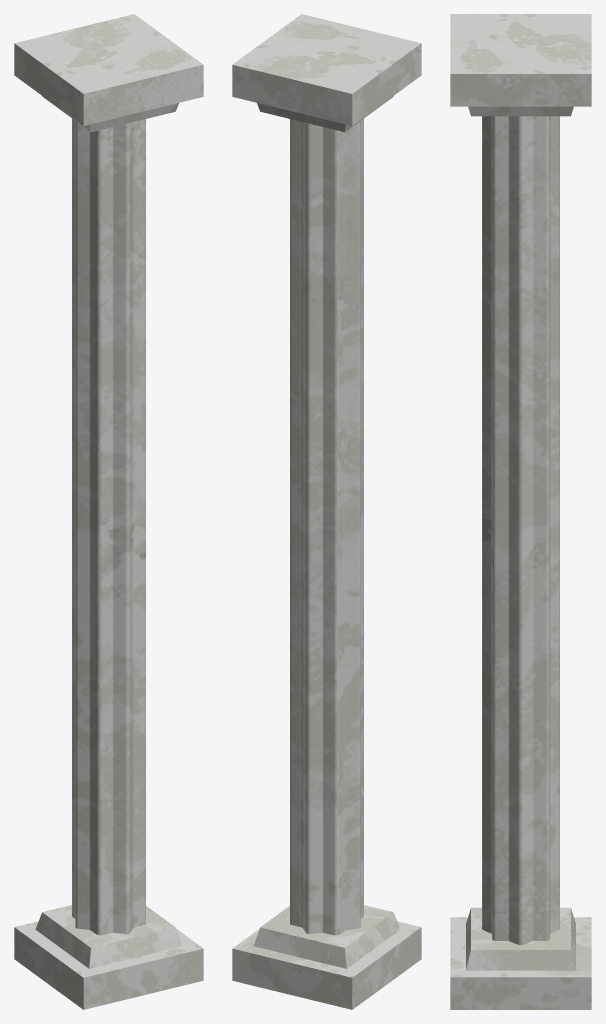
File: SM_Column.fbx
3 renders of one model, left to right at view 1: azimuth 30°, elevation 25°; view 2: azimuth 150°, elevation 25°; view 3: azimuth 270°, elevation 25°, orthographic. The views are drawn at different scales.
Visible parts, largest first — view 1: SM_Column; view 2: SM_Column; view 3: SM_Column.
Part boxes in pixels (<box>): SM_Column: <box>14,14,203,1009</box>; SM_Column: <box>232,14,421,1009</box>; SM_Column: <box>450,14,591,1009</box>.
Size of the model in its own units: 13.65 by 13.65 by 99.55.
